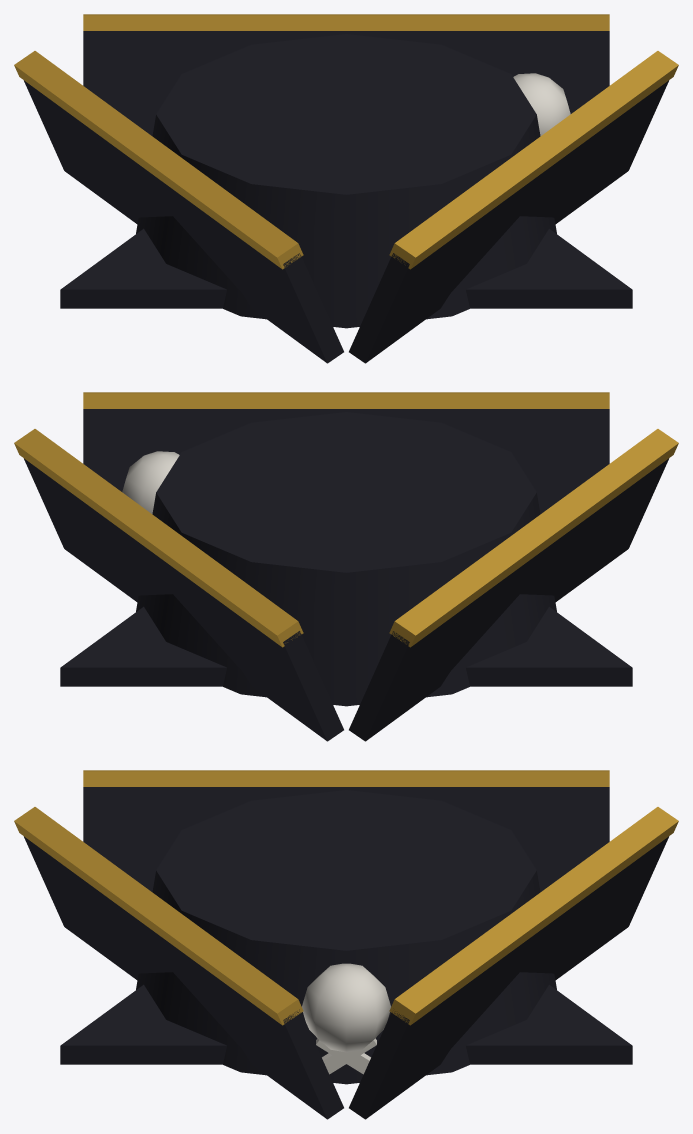
Rendered from hat_pirate.glb.
3 views of the same model, one above another, from view 1: azimuth 30°, elevation 25°; view 2: azimuth 150°, elevation 25°; view 3: azimuth 270°, elevation 25° (orthographic).
Parts seen in each view (by area): view 1: Hat; view 2: Hat; view 3: Hat.
Part boxes in pixels (x1,y1,x2,y2): Hat: [14, 14, 678, 363]; Hat: [14, 392, 678, 741]; Hat: [14, 770, 678, 1119].
Bounding box in the file's own units: 0.7654 × 0.1703 × 0.7547.
